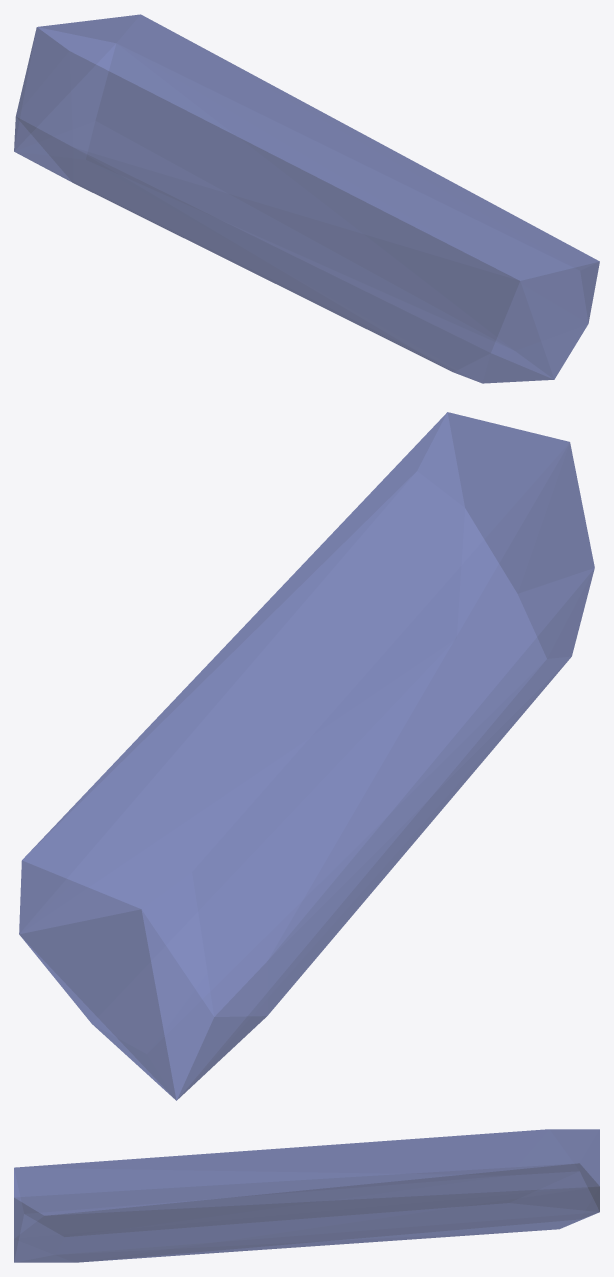
The picture shows the model from 3 angles, top to bottom: view 1: azimuth 30°, elevation 25°; view 2: azimuth 150°, elevation 25°; view 3: azimuth 270°, elevation 25°; orthographic projection. The views are drawn at different scales.
Parts seen in each view (by area): view 1: Shape_IndexedFaceSet.025_Shape_IndexedFaceSet.5916; view 2: Shape_IndexedFaceSet.025_Shape_IndexedFaceSet.5916; view 3: Shape_IndexedFaceSet.025_Shape_IndexedFaceSet.5916.
Part boxes in pixels (<box>): Shape_IndexedFaceSet.025_Shape_IndexedFaceSet.5916: <box>14,14,599,383</box>; Shape_IndexedFaceSet.025_Shape_IndexedFaceSet.5916: <box>19,412,594,1100</box>; Shape_IndexedFaceSet.025_Shape_IndexedFaceSet.5916: <box>14,1129,599,1262</box>.
Bounding box in the file's own units: 0.0374 × 0.0197 × 0.1143.
